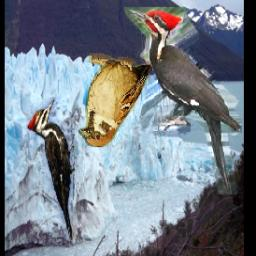Sparrow: (79, 54, 153, 148)
Woodpecker: (124, 7, 242, 195), (26, 98, 75, 250)
